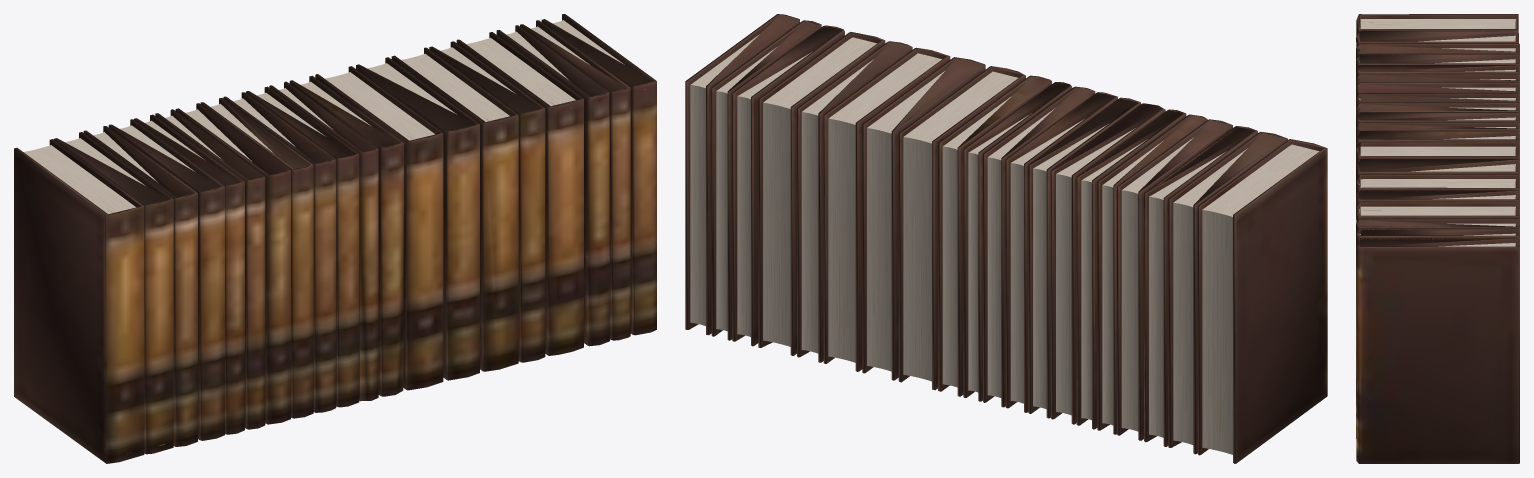
File: book_encyclopedia_set_01.glb
3 views of the same model, side by side, from view 1: azimuth 30°, elevation 25°; view 2: azimuth 150°, elevation 25°; view 3: azimuth 270°, elevation 25° (orthographic). The views are drawn at different scales.
Visible parts, largest first — view 1: book_encyclopedia_set_01_book01, book_encyclopedia_set_01_book01_lo; view 2: book_encyclopedia_set_01_book01_lo, book_encyclopedia_set_01_book01; view 3: book_encyclopedia_set_01_book01, book_encyclopedia_set_01_book01_lo.
Part boxes in pixels (left/top/right/bottom): book_encyclopedia_set_01_book01: left=27, top=14, right=656, bottom=463; book_encyclopedia_set_01_book01_lo: left=14, top=14, right=655, bottom=463; book_encyclopedia_set_01_book01_lo: left=685, top=14, right=1327, bottom=463; book_encyclopedia_set_01_book01: left=685, top=14, right=1327, bottom=463; book_encyclopedia_set_01_book01: left=1356, top=14, right=1519, bottom=463; book_encyclopedia_set_01_book01_lo: left=1356, top=14, right=1518, bottom=463.
Bounding box in the file's own units: 0.5513 × 0.2374 × 0.1631.
2 materials, 2 textured.
